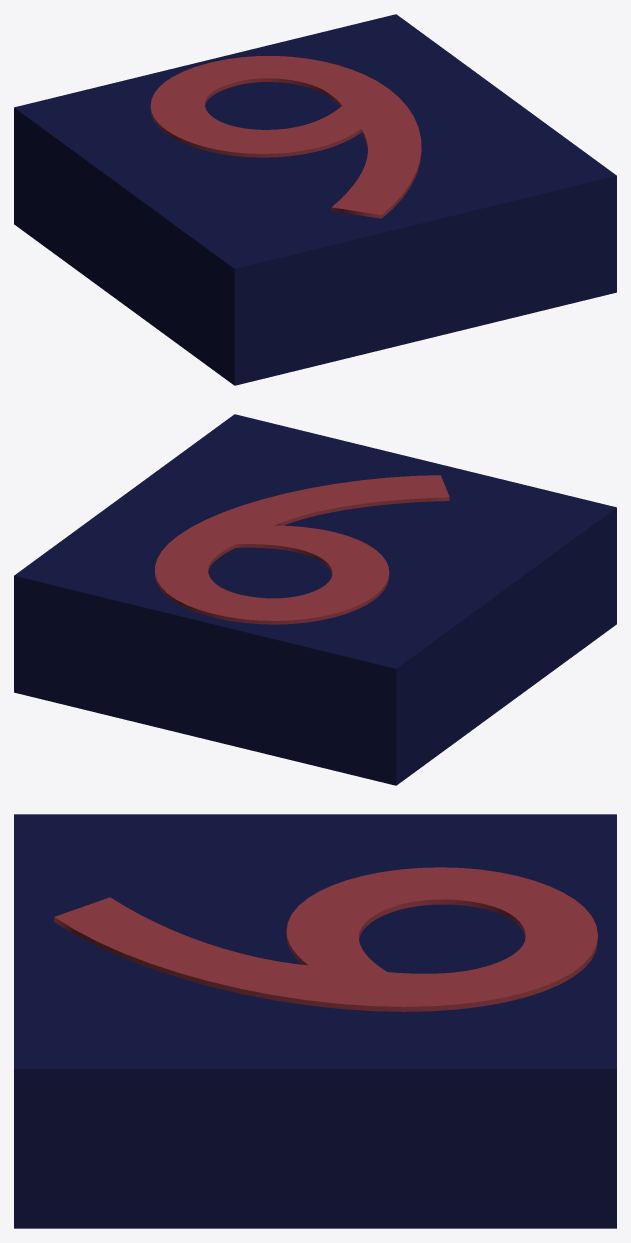
Rendered from nine-pad.fbx.
3 views of the same model, one above another, from view 1: azimuth 30°, elevation 25°; view 2: azimuth 150°, elevation 25°; view 3: azimuth 270°, elevation 25° (orthographic). The views are drawn at different scales.
Visible parts, largest first — view 1: Cube, Text; view 2: Cube, Text; view 3: Cube, Text.
Boxes of the visible parts, x1,y1,x2,y2 form: Cube: (14,14,616,385); Text: (150,56,421,218); Cube: (14,414,616,785); Text: (155,475,449,624); Cube: (14,814,616,1228); Text: (54,867,597,1011).
Bounding box in the file's own units: 200 × 60.26 × 200.
